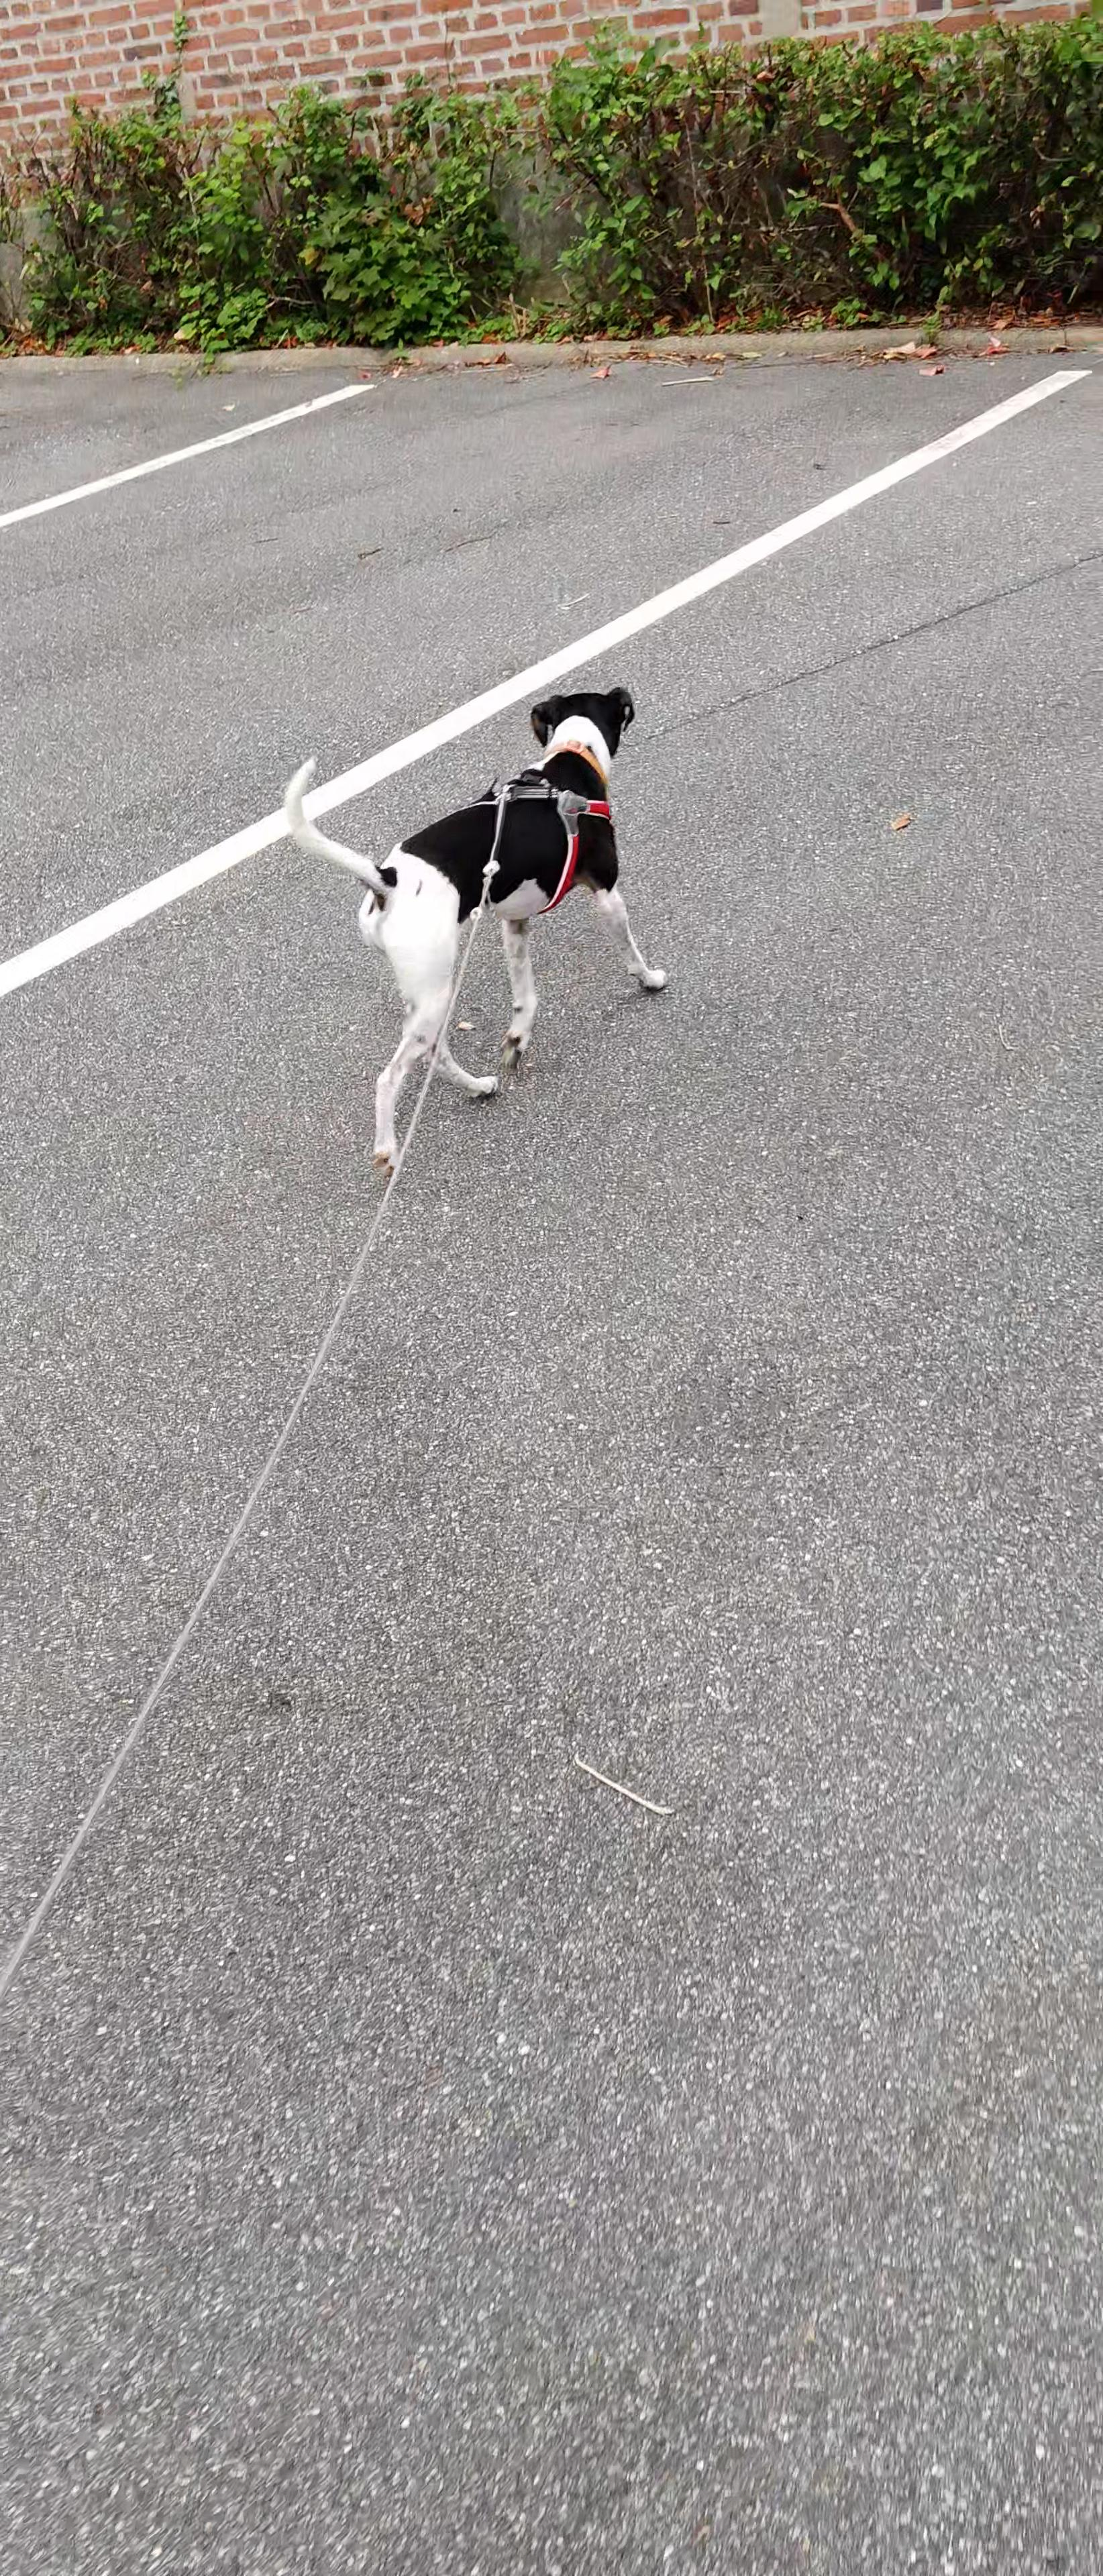Dog: (278, 682, 679, 1176)
